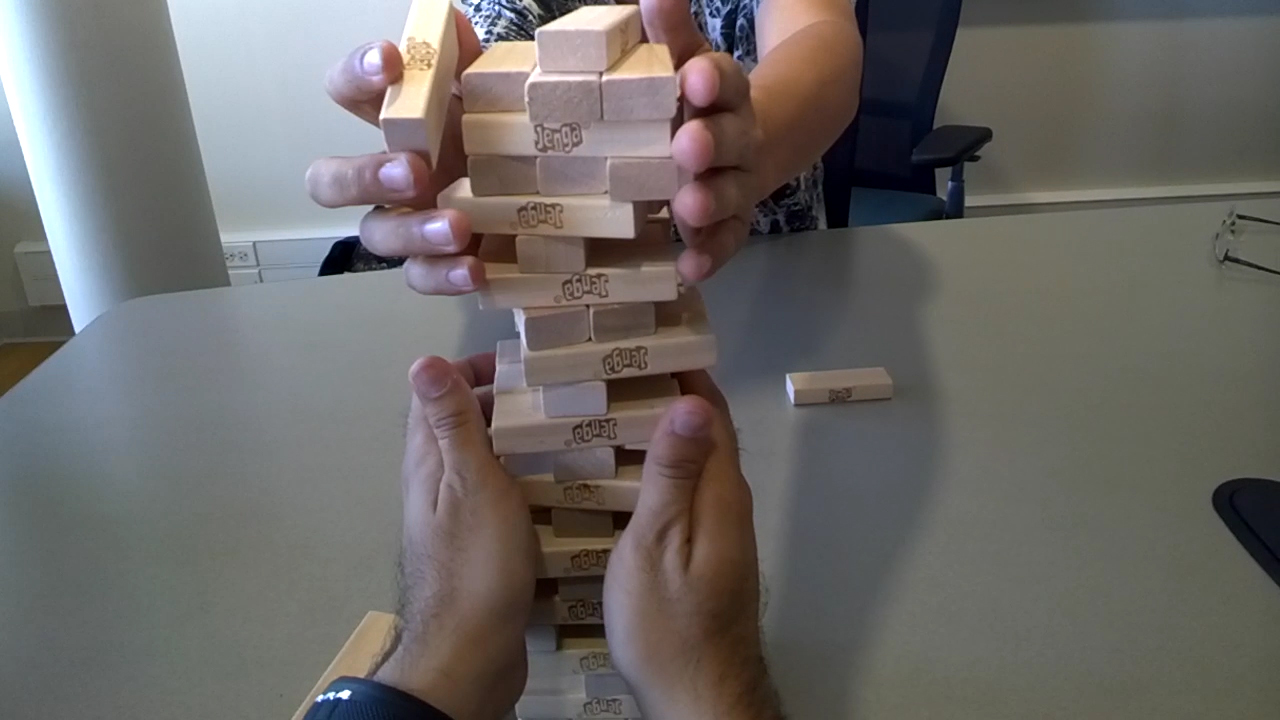hand: (393, 349, 536, 700), (607, 376, 756, 692), (309, 43, 470, 292), (639, 0, 762, 268)
